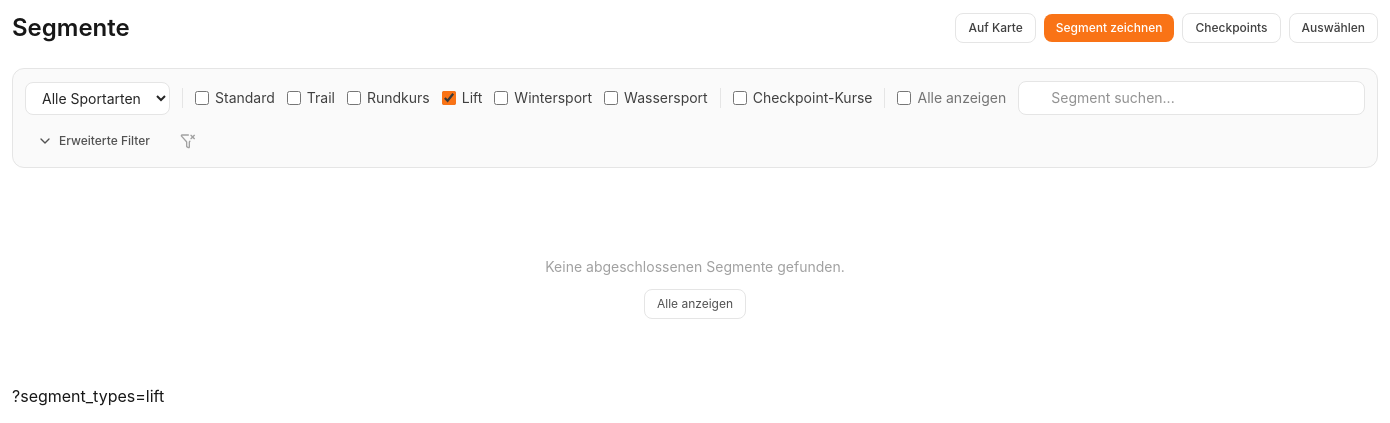
Test: SegmentsPage filters › hides uncompleted lift rows while completed-only mode is active
Expected: the text "Keine abgeschlossenen Segmente gefunden." is shown, [545,257,845,277]
Expected: the text "Uncompleted lift" is not shown
Click the button "Alle anzeigen": click(695, 304) [644,289,746,319]
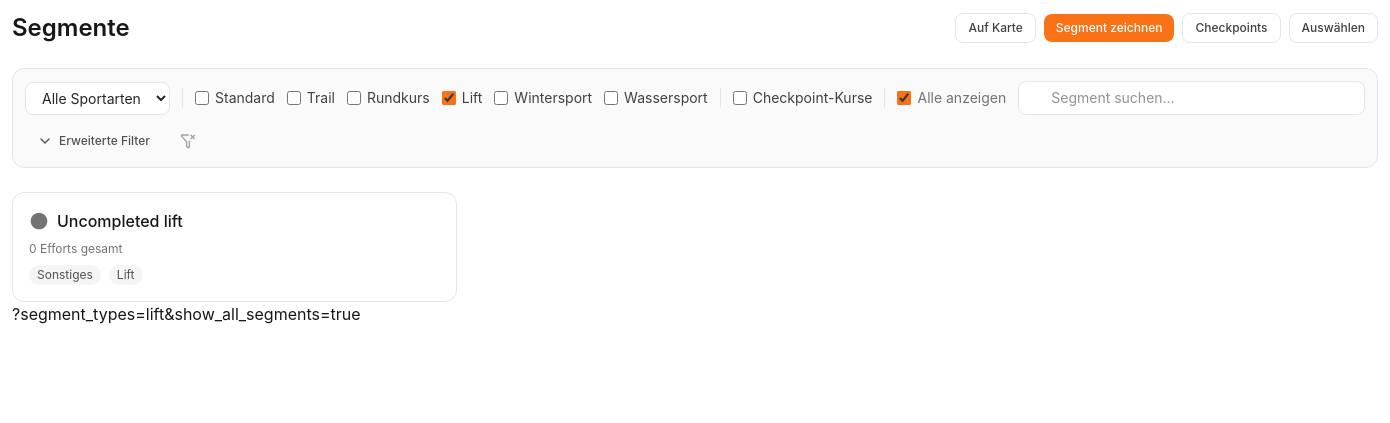
Result: the heading "Uncompleted lift" is shown at [57,209,183,233]
